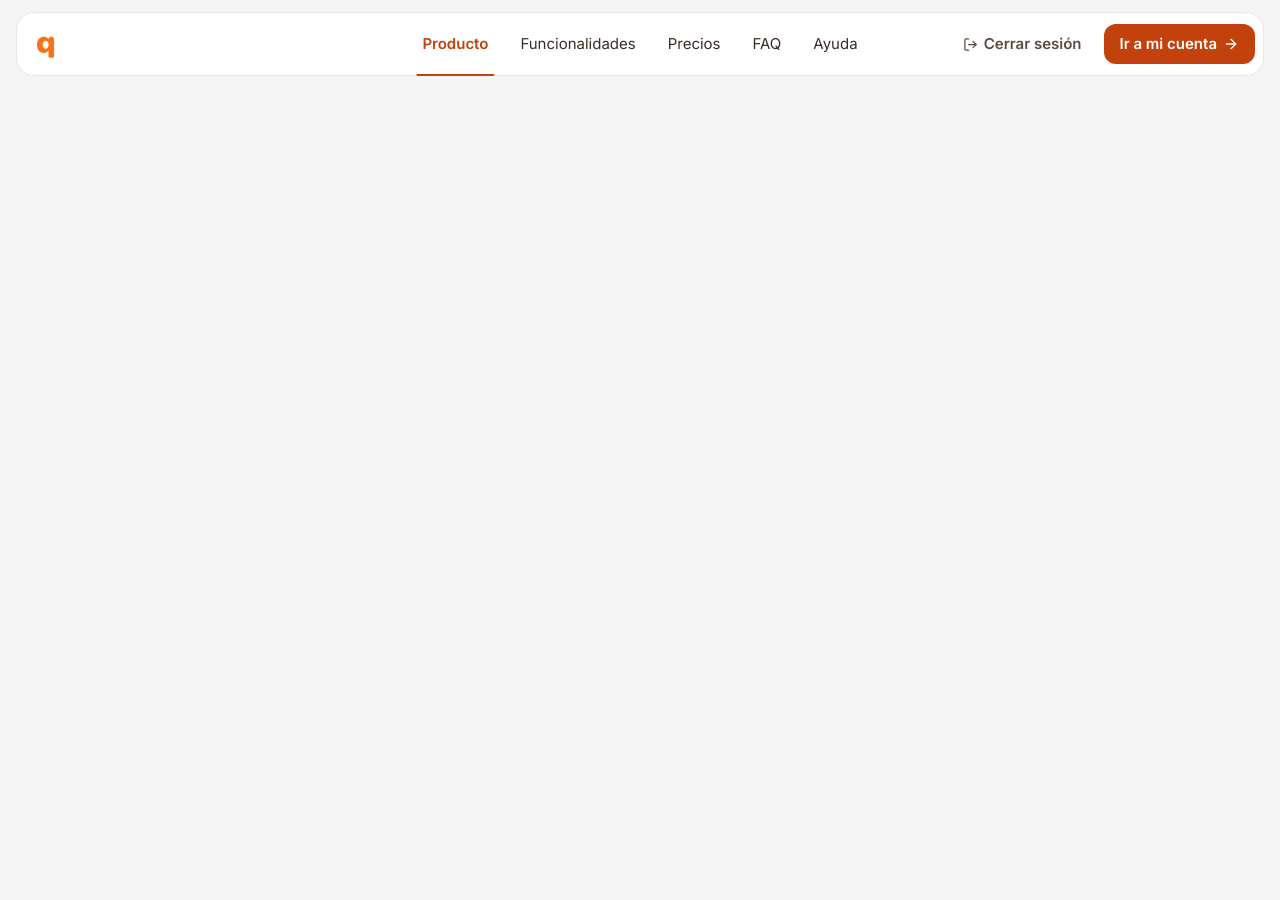
Test: the landing and the session › with a session: go to the account or sign out, with a confirmation
The width and height of the screenshot is (1280, 900).
Step 1. Click the button "Cerrar sesión" → (1022, 44), box [947,24,1098,64]
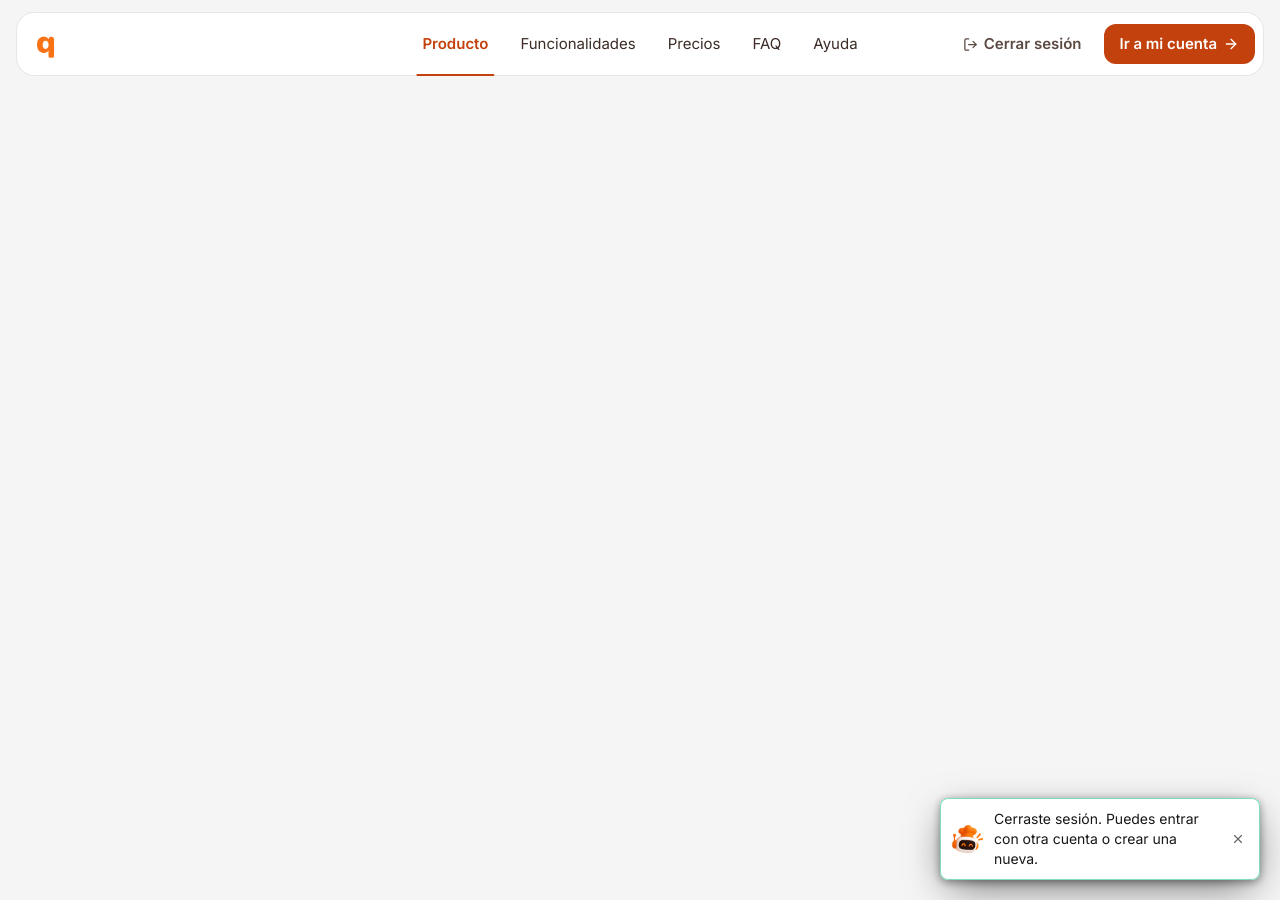
Now the text "Cerraste sesión" is shown, box [994,810,1199,867]
